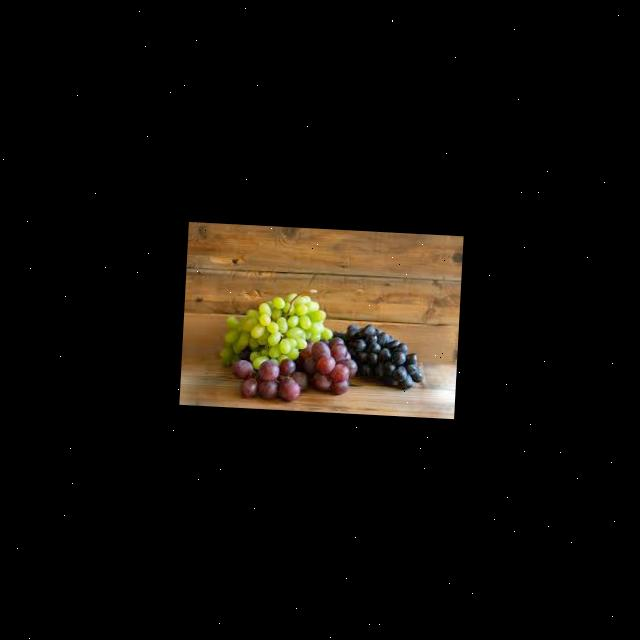grape: (218, 287, 335, 373), (329, 321, 425, 390)
